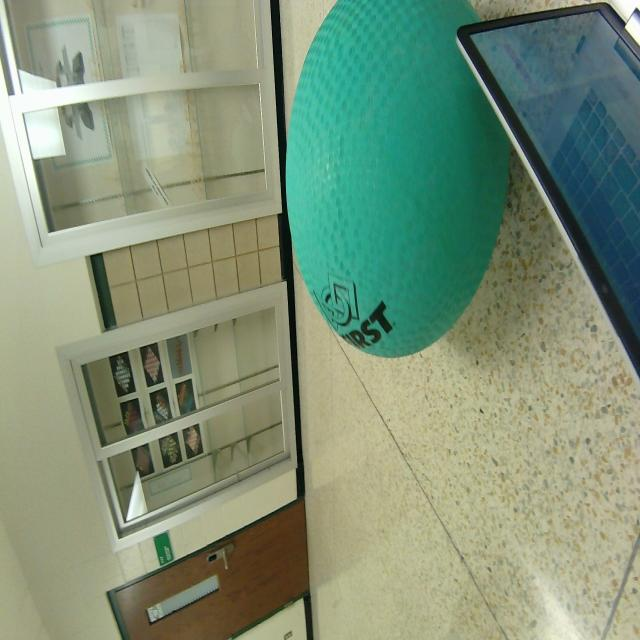algae: (282, 0, 445, 369)
